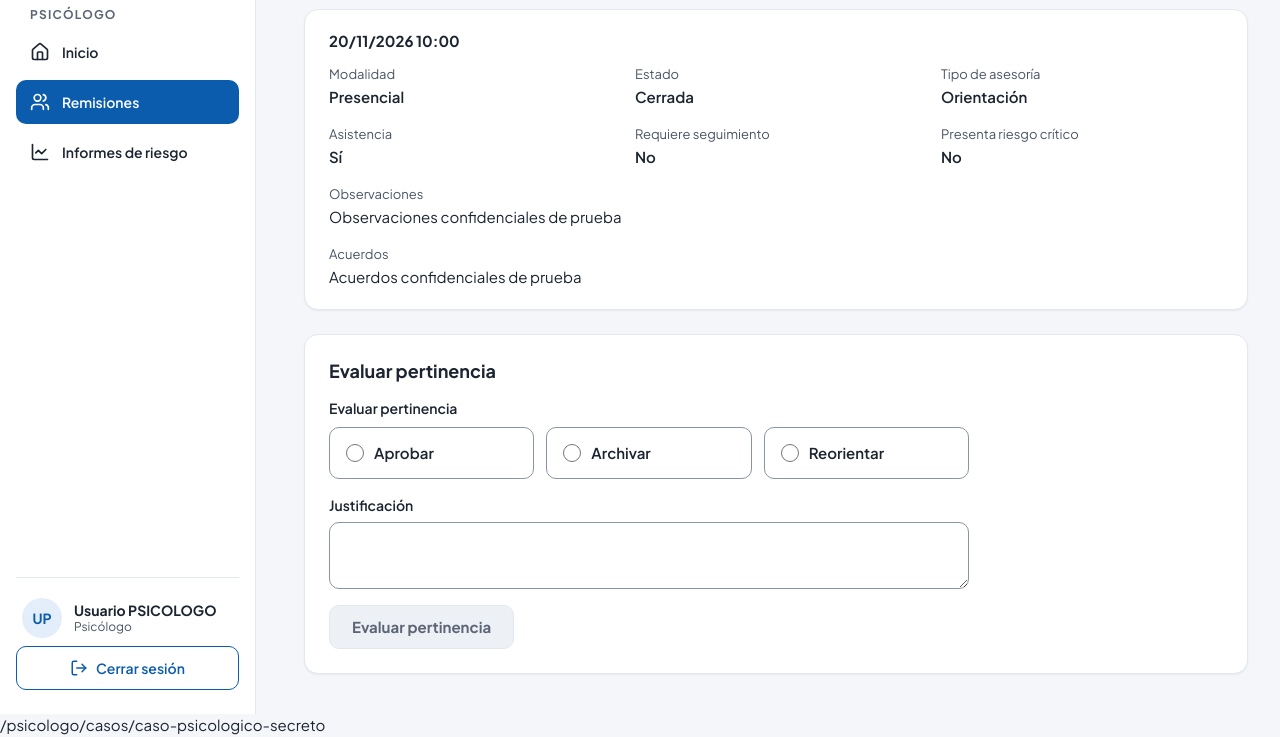
Test: Evaluación de pertinencia (CUD07) › 409: muestra el texto exacto del backend y conserva el formulario
(page scrolled)
Click the radio button labelled "Archivar": (572, 453) [563,444,581,462]
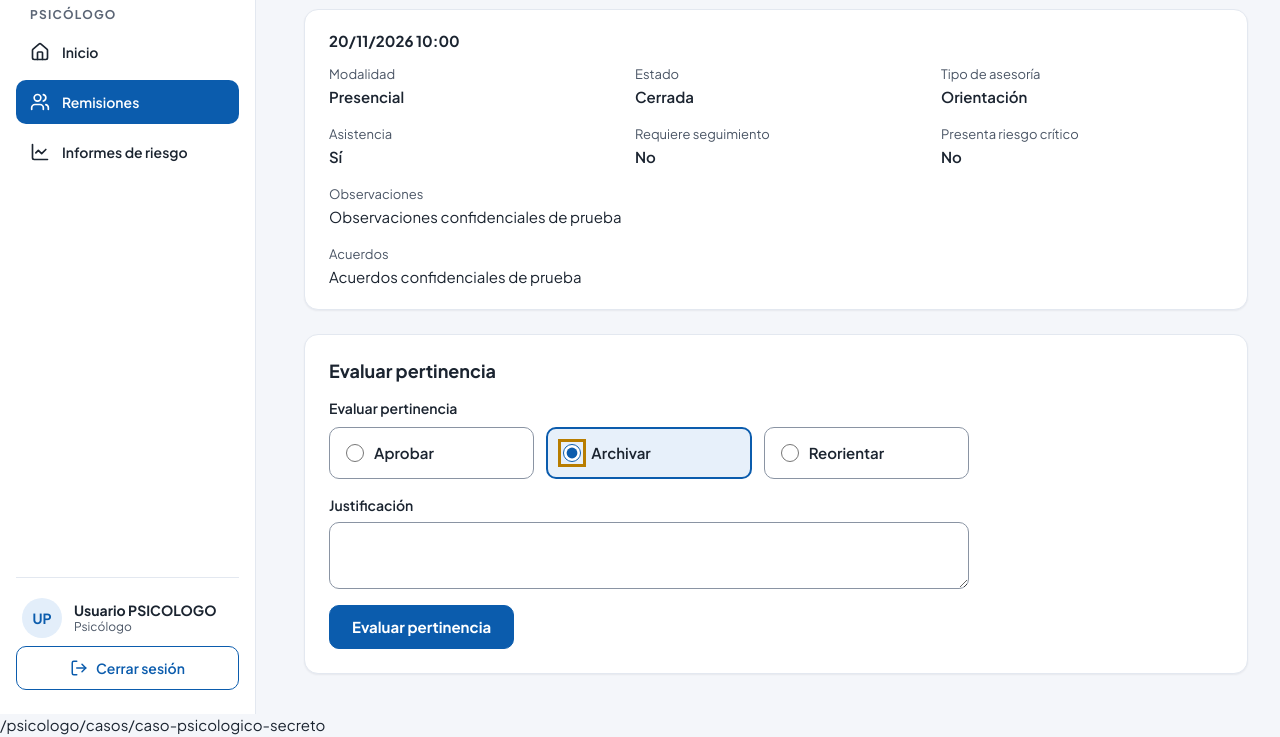
In the text box labelled "Justificación": (649, 556) [329,522,969,589], type "No corresponde"
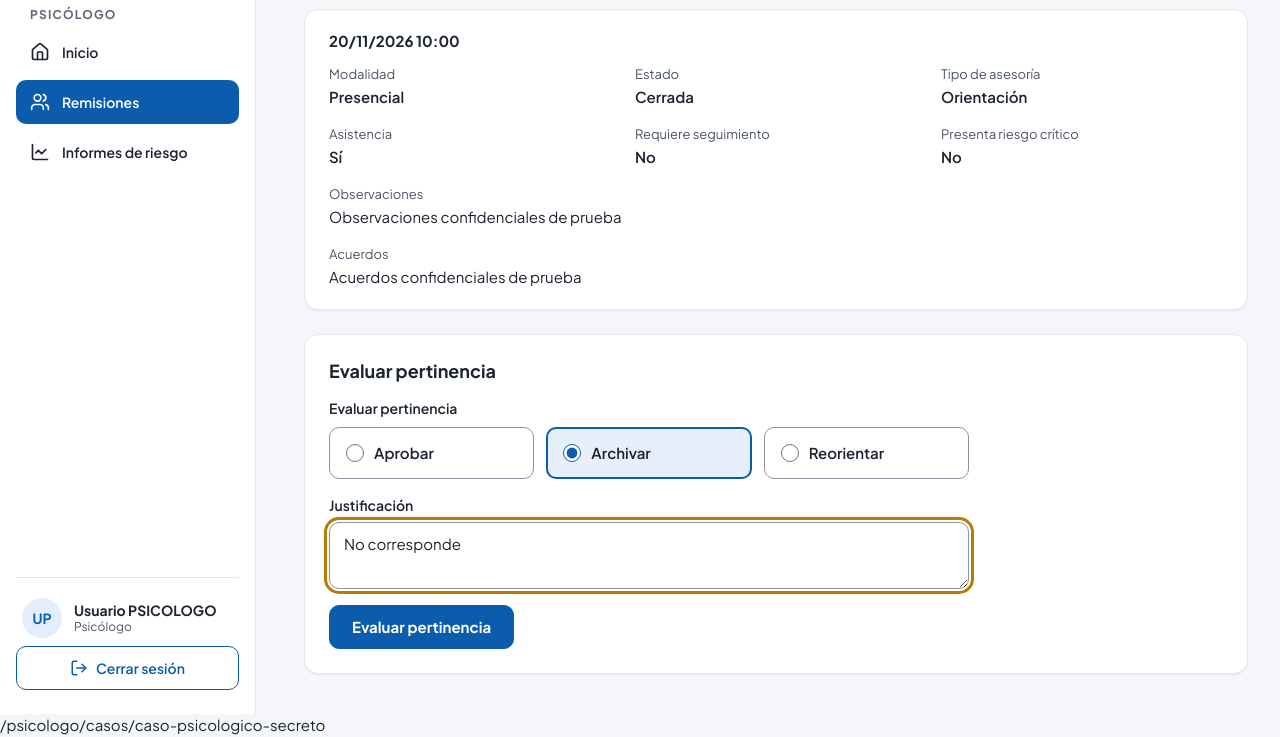
Click the button "Evaluar pertinencia": (422, 627) [329,605,514,649]
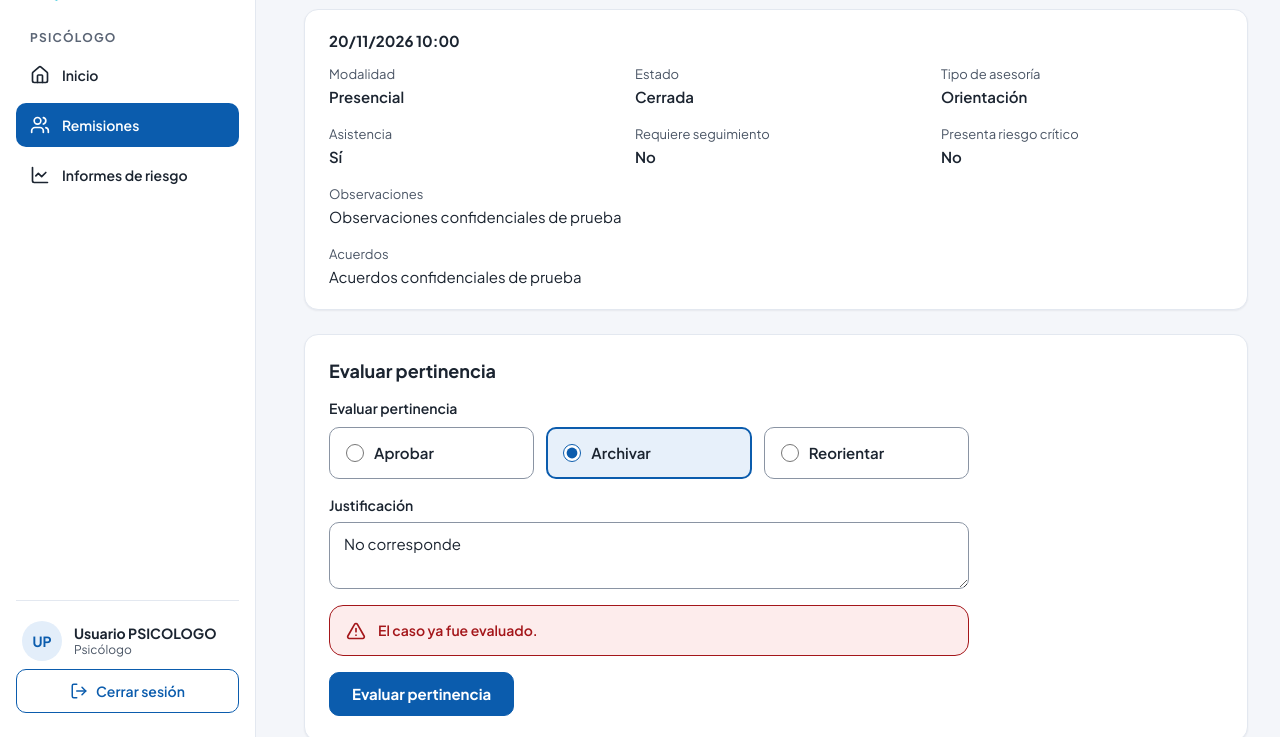
Check: the message reads "El caso ya fue evaluado.", box [378,621,538,639]
